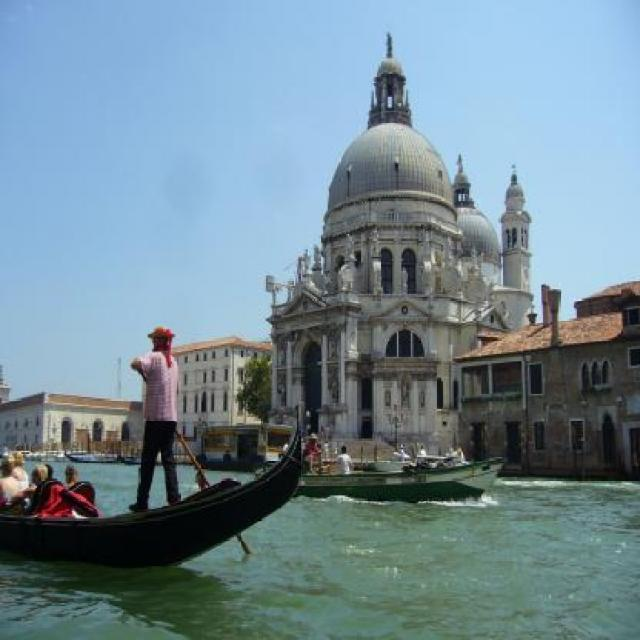ship: (0, 397, 305, 563), (254, 455, 506, 502), (63, 448, 119, 463)
